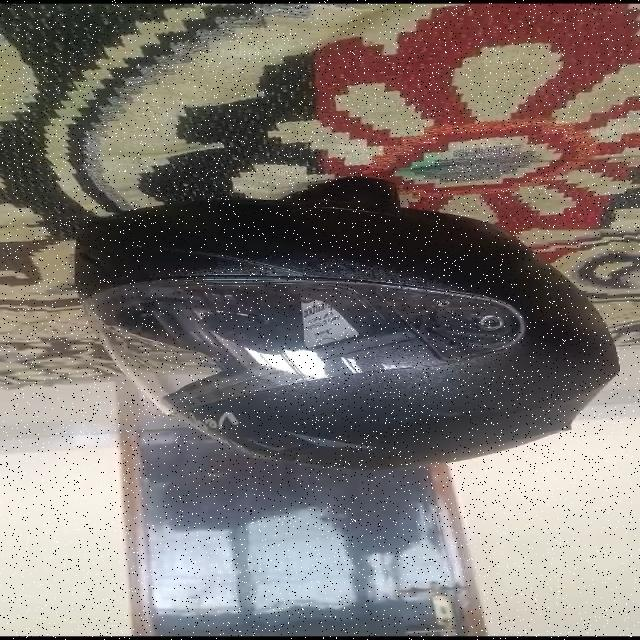Helmet: (75, 195, 621, 470)
